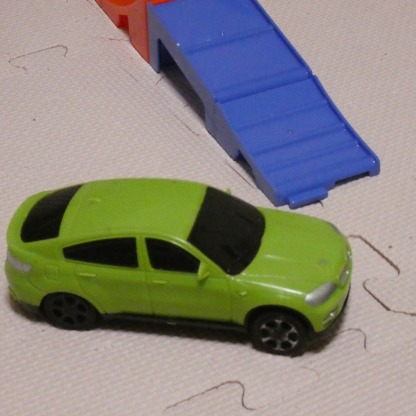car: (4, 176, 355, 356)
